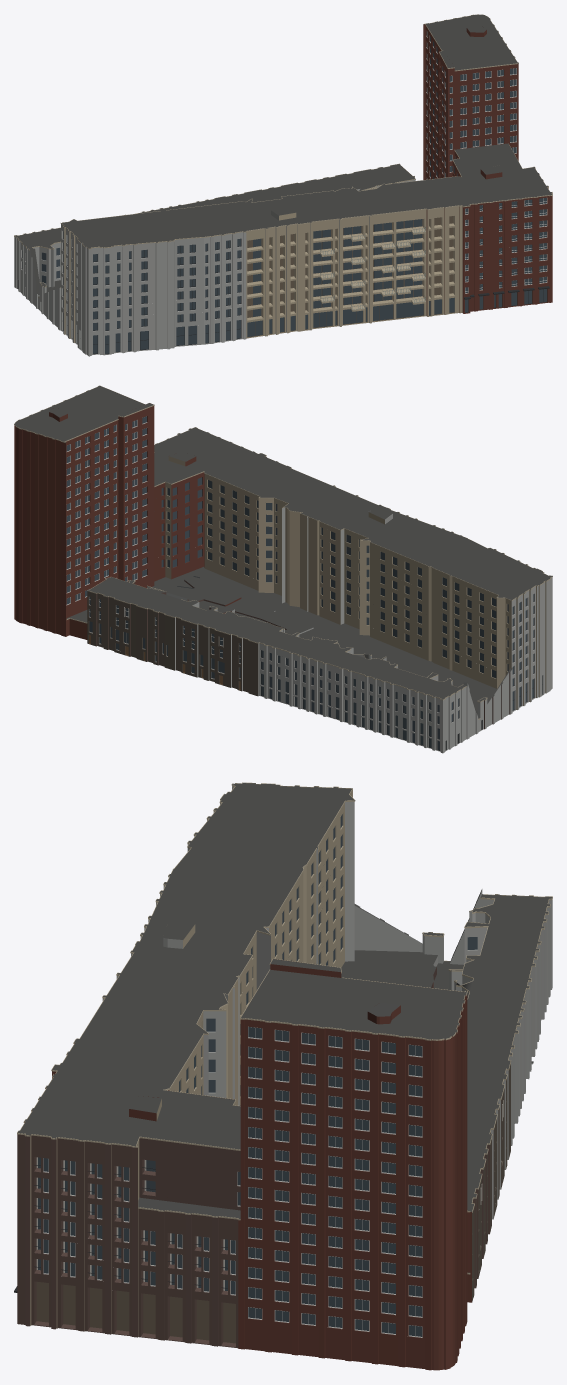
File: rinus-michelslaan-1.glb
The picture shows the model from 3 angles, top to bottom: view 1: azimuth 30°, elevation 25°; view 2: azimuth 150°, elevation 25°; view 3: azimuth 270°, elevation 25°; orthographic projection. The views are drawn at different scales.
Visible parts, largest first — view 1: rinus-michelslaan-1; view 2: rinus-michelslaan-1; view 3: rinus-michelslaan-1.
Boxes of the visible parts, bbox=[...] form: rinus-michelslaan-1: bbox=[14, 14, 552, 356]; rinus-michelslaan-1: bbox=[14, 385, 552, 753]; rinus-michelslaan-1: bbox=[14, 782, 552, 1370].
Bounding box in the file's own units: 127 × 50.71 × 73.18.
